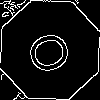O: (25, 25, 82, 78)
